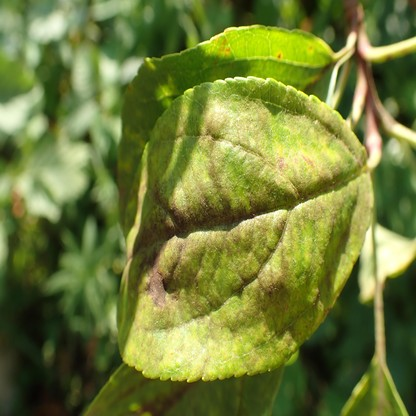scab: (125, 96, 373, 372), (110, 368, 283, 416), (293, 320, 350, 416)
